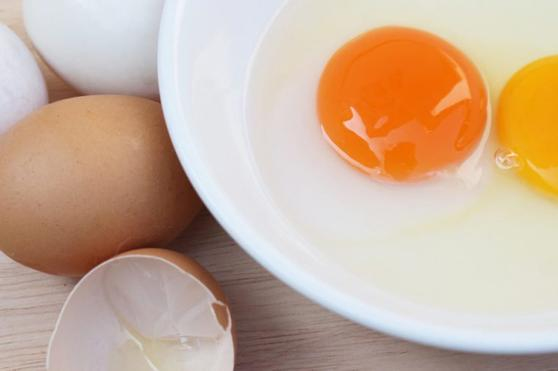egg: (3, 91, 211, 290)
